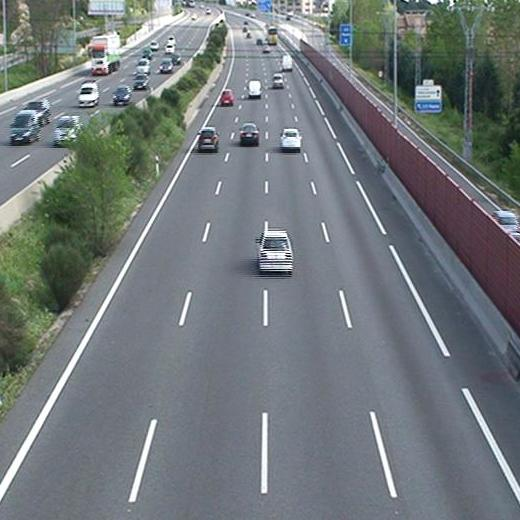bus: (267, 27, 279, 45)
car: (257, 229, 295, 273), (196, 127, 220, 150), (279, 128, 302, 150), (238, 124, 260, 144), (271, 74, 285, 90), (221, 90, 234, 106)
van: (247, 79, 262, 100), (281, 55, 294, 71)
